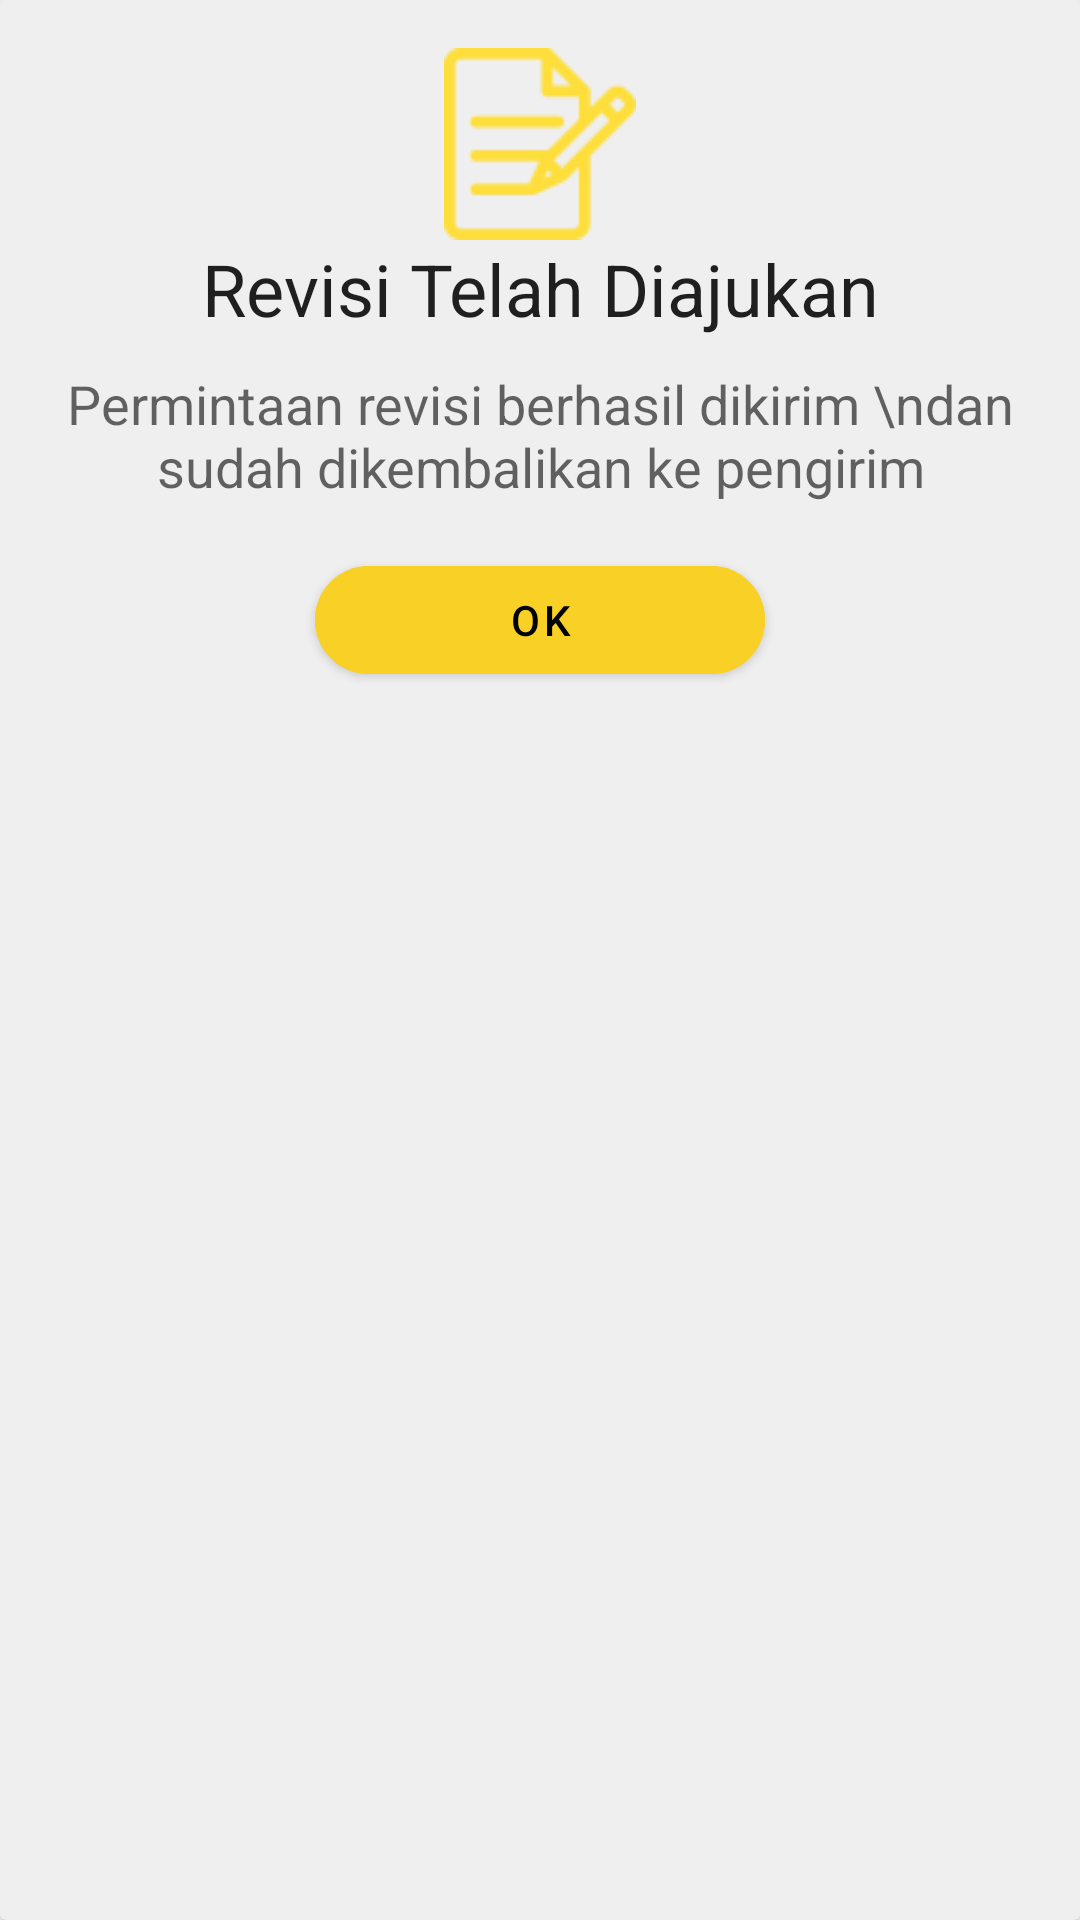

Icon bounding boxes for this 1080×1920 phone screenshot, format (x1, y1, x2, y2):
file: (444, 48, 636, 240)
